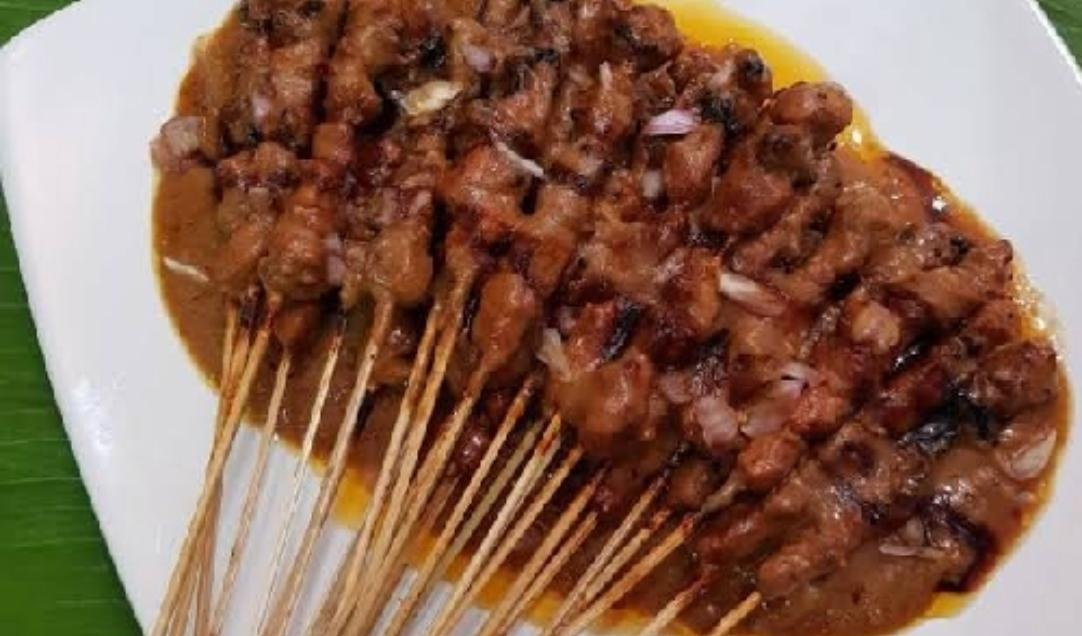sate_madura: (186, 1, 1043, 629)
